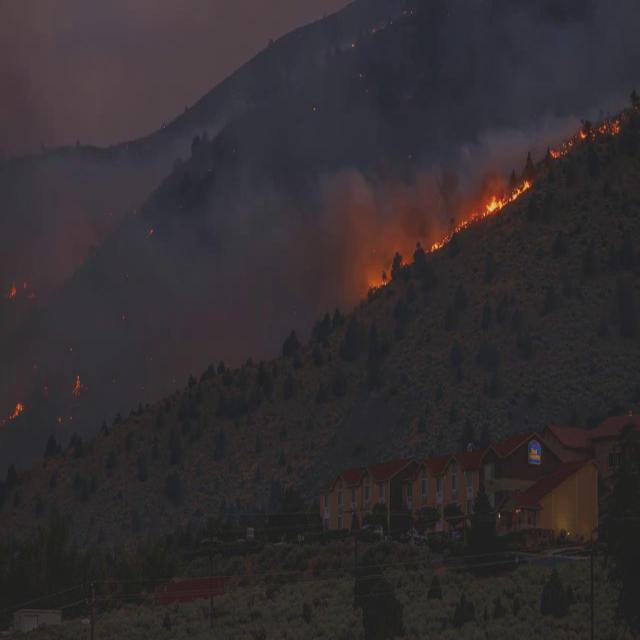Fire: (432, 180, 530, 250), (595, 120, 621, 137), (550, 142, 574, 160), (10, 401, 22, 420), (72, 373, 82, 395), (8, 279, 18, 299), (374, 277, 388, 289), (578, 130, 588, 140)
